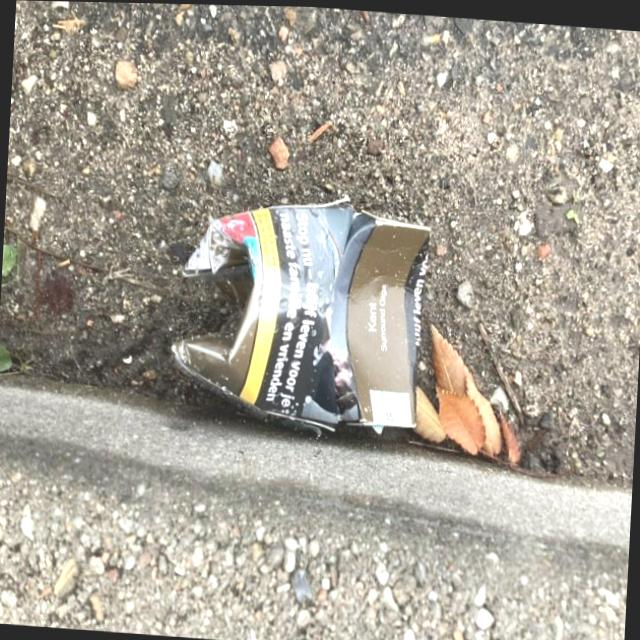Paper: (162, 173, 440, 437)
